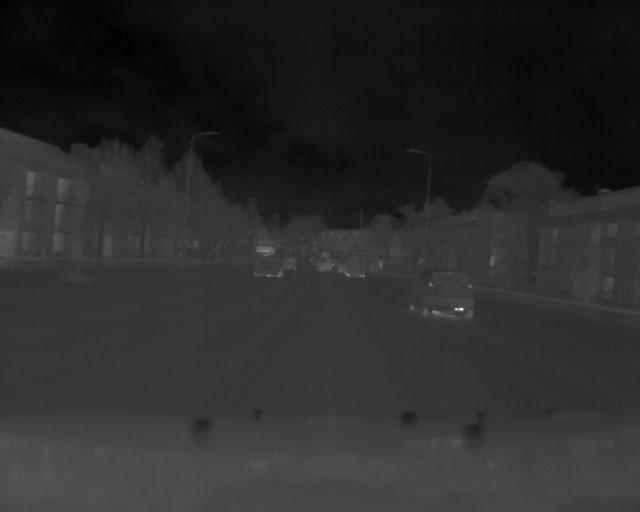car: (413, 260, 486, 327), (255, 229, 294, 281), (347, 254, 368, 282)
